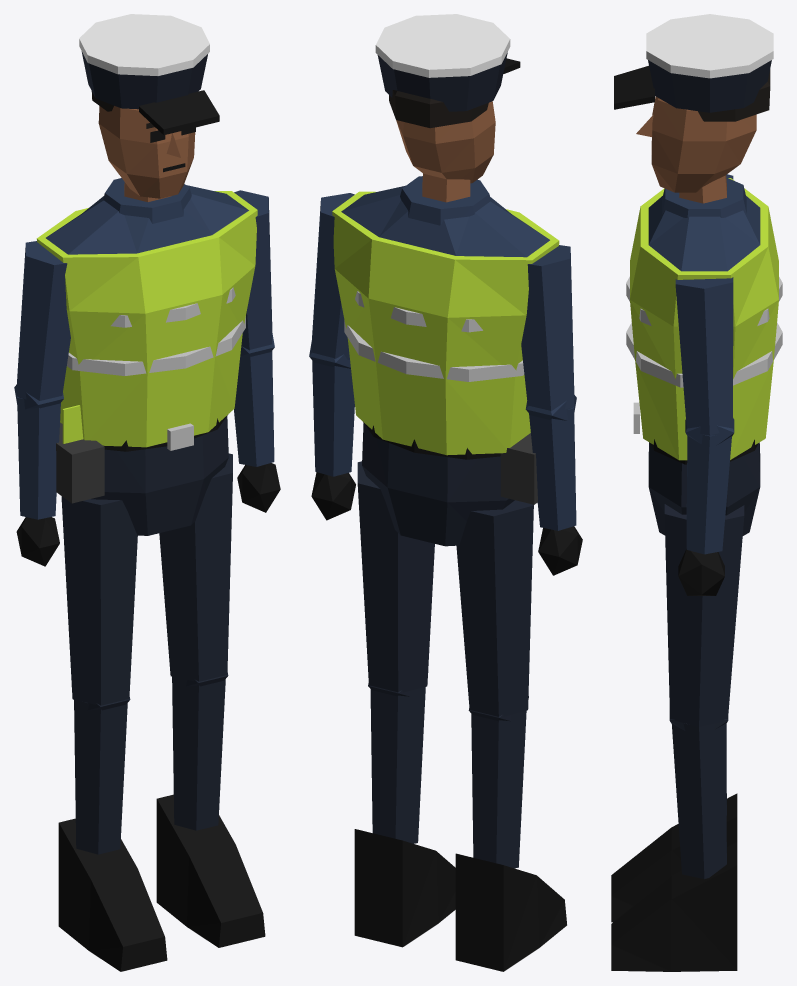
The model's file is officer-meter.glb.
3 views of the same model, side by side, from view 1: azimuth 30°, elevation 25°; view 2: azimuth 150°, elevation 25°; view 3: azimuth 270°, elevation 25° (orthographic). The views are drawn at different scales.
Parts seen in each view (by area): view 1: chest_mesh, head_mesh, shin_l_mesh, shin_r_mesh, thigh_r_mesh, thigh_l_mesh, hips_mesh, upper_arm_r_mesh, forearm_r_mesh, forearm_l_mesh, prop_mesh, upper_arm_l_mesh (+1 smaller); view 2: chest_mesh, head_mesh, shin_r_mesh, shin_l_mesh, thigh_r_mesh, thigh_l_mesh, hips_mesh, upper_arm_r_mesh, forearm_r_mesh, forearm_l_mesh, upper_arm_l_mesh, prop_mesh; view 3: chest_mesh, head_mesh, shin_l_mesh, thigh_l_mesh, upper_arm_l_mesh, forearm_l_mesh, hips_mesh, shin_r_mesh.
Part boxes in pixels (x1,y1,x2,y2): chest_mesh: (36,178,257,447); head_mesh: (79,14,219,201); shin_l_mesh: (156,676,265,947); shin_r_mesh: (58,700,167,971); thigh_r_mesh: (61,496,137,710); thigh_l_mesh: (159,453,232,686); hips_mesh: (91,414,228,535); upper_arm_r_mesh: (14,241,70,409); forearm_r_mesh: (16,396,60,566); forearm_l_mesh: (234,351,280,512); prop_mesh: (56,405,104,503); upper_arm_l_mesh: (234,190,274,357); chest_mesh: (332,176,559,455); head_mesh: (375,14,520,202); shin_r_mesh: (455,710,566,971); shin_l_mesh: (354,687,455,947); thigh_r_mesh: (456,500,533,721); thigh_l_mesh: (357,461,434,696); hips_mesh: (362,422,514,546); upper_arm_r_mesh: (521,245,576,420); forearm_r_mesh: (529,407,582,575); forearm_l_mesh: (311,361,355,520); upper_arm_l_mesh: (309,193,354,368); prop_mesh: (500,433,537,504); chest_mesh: (626,177,782,460); head_mesh: (614,14,773,203); shin_l_mesh: (611,723,737,971); thigh_l_mesh: (664,504,744,730); upper_arm_l_mesh: (675,277,734,445); forearm_l_mesh: (678,434,731,595); hips_mesh: (648,439,760,535); shin_r_mesh: (611,724,737,922).
Size of the model in its own units: 0.5477 by 1.8 by 0.3127.
